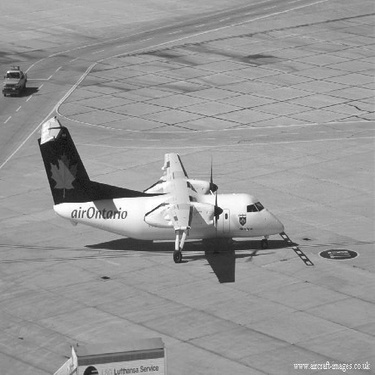airplane: (30, 113, 286, 267)
car: (1, 65, 31, 100)
